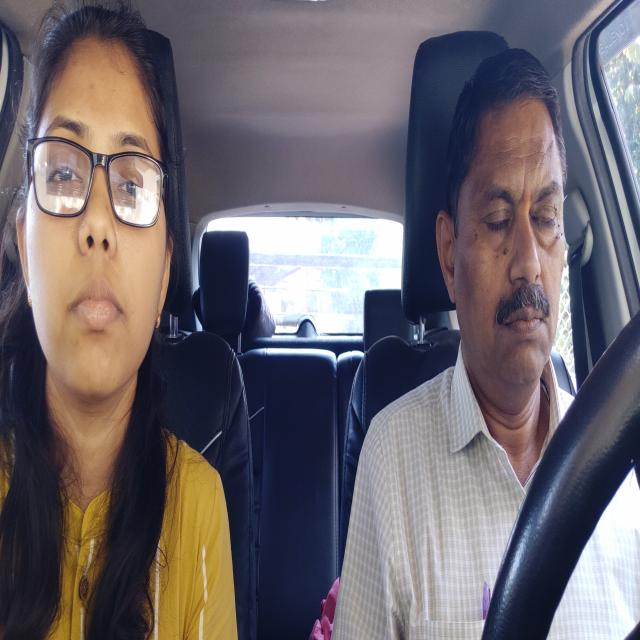drowsy: (434, 66, 568, 388)
person: (15, 28, 175, 396)
